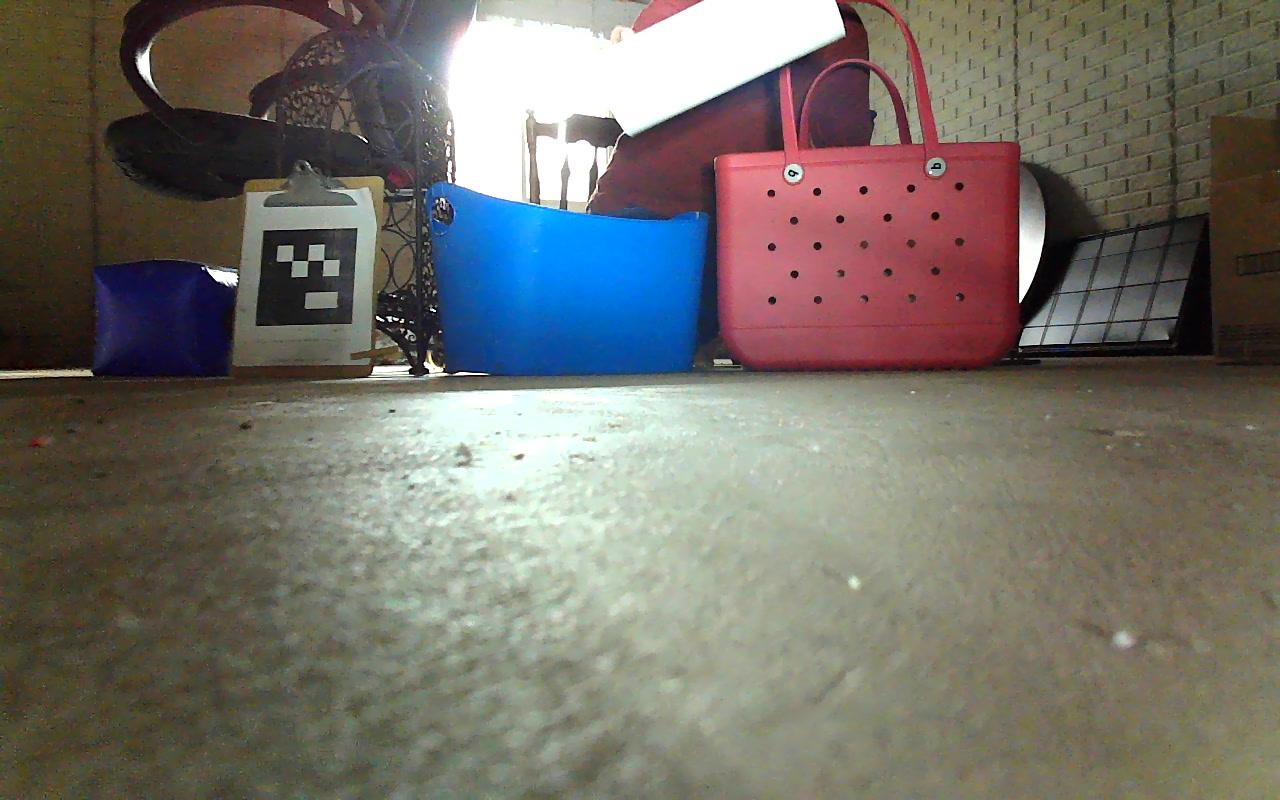coral: (595, 0, 848, 138)
